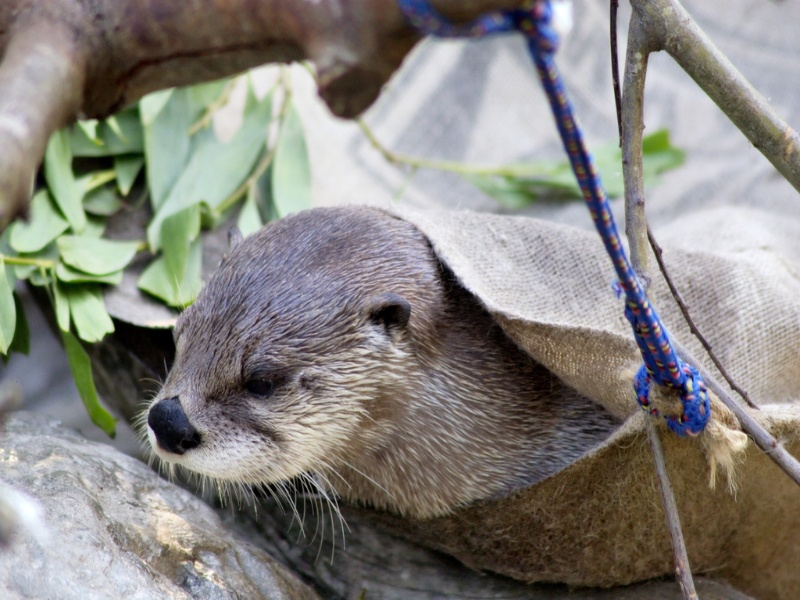minkish: (128, 201, 660, 547)
